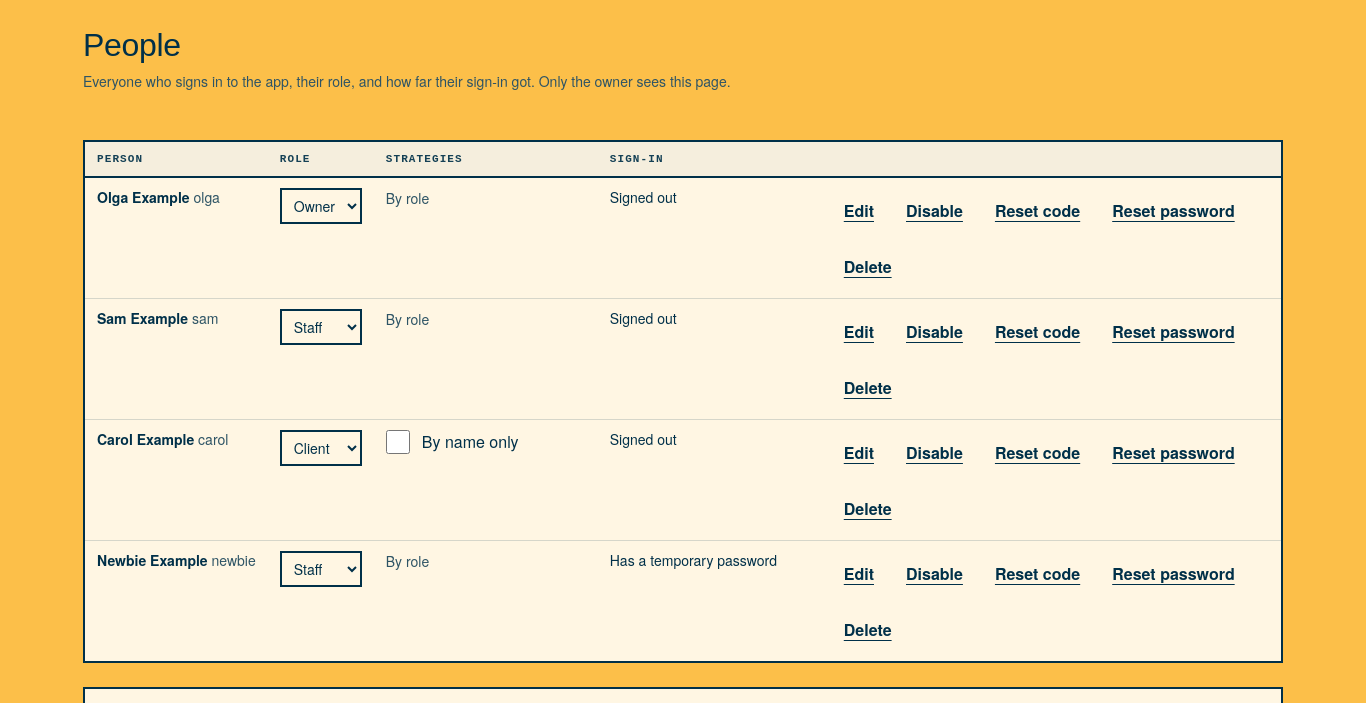
People › edits a person’s name and e-mail, and removes an e-mail left empty
The width and height of the screenshot is (1366, 703).
Click the button with aria-label "Edit carol". click: (859, 452)
box: [834,430,884,474]
(page scrolled)
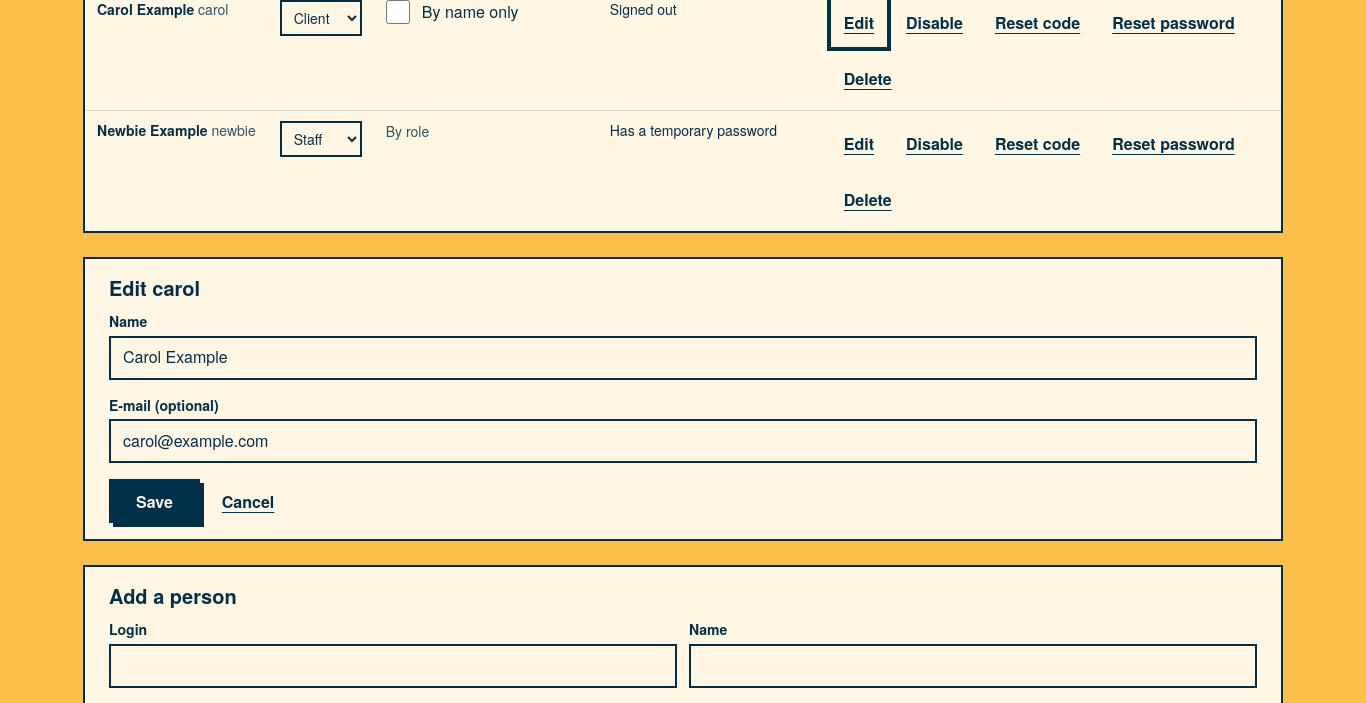
Replace the text in the field labelled "Name" below "Edit carol" with "Carol Smith". click: (683, 358)
box: [109,336,1257,380]
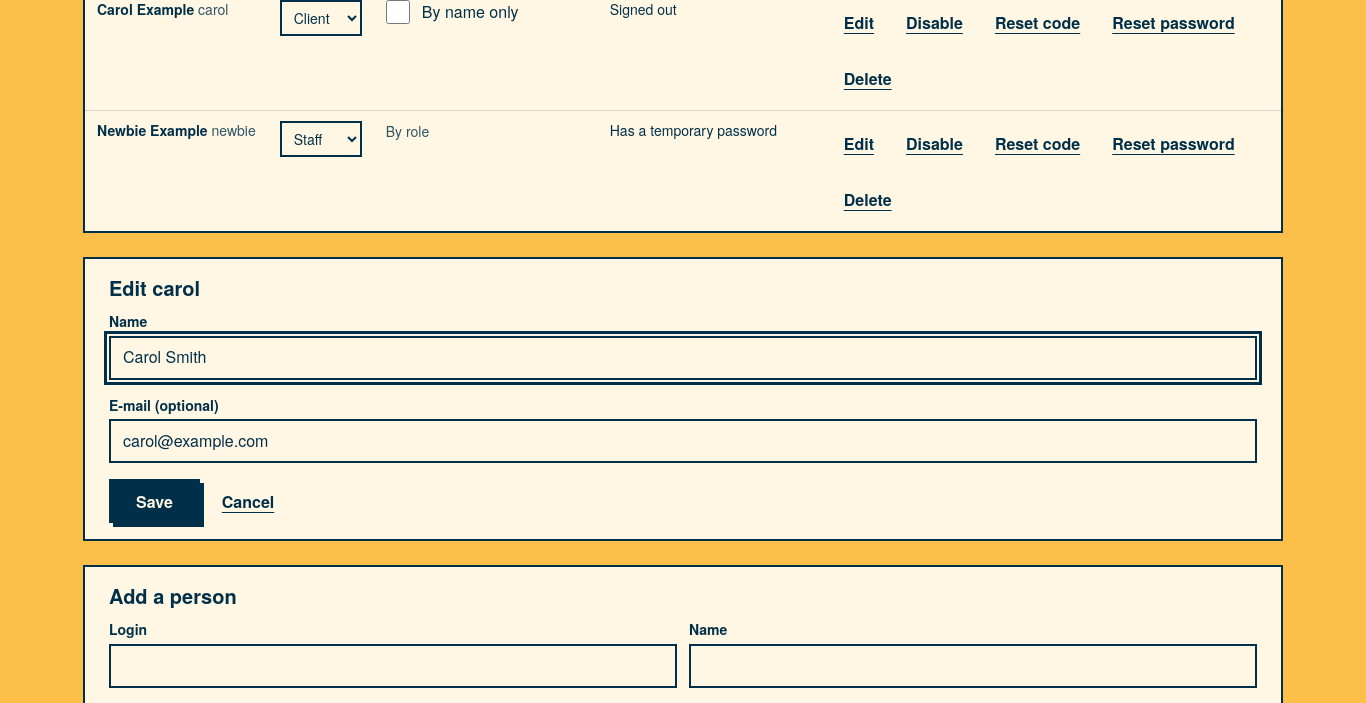
Clear the field labelled "E-mail (optional)" below "Edit carol". click: (683, 441)
box: [109,419,1257,463]
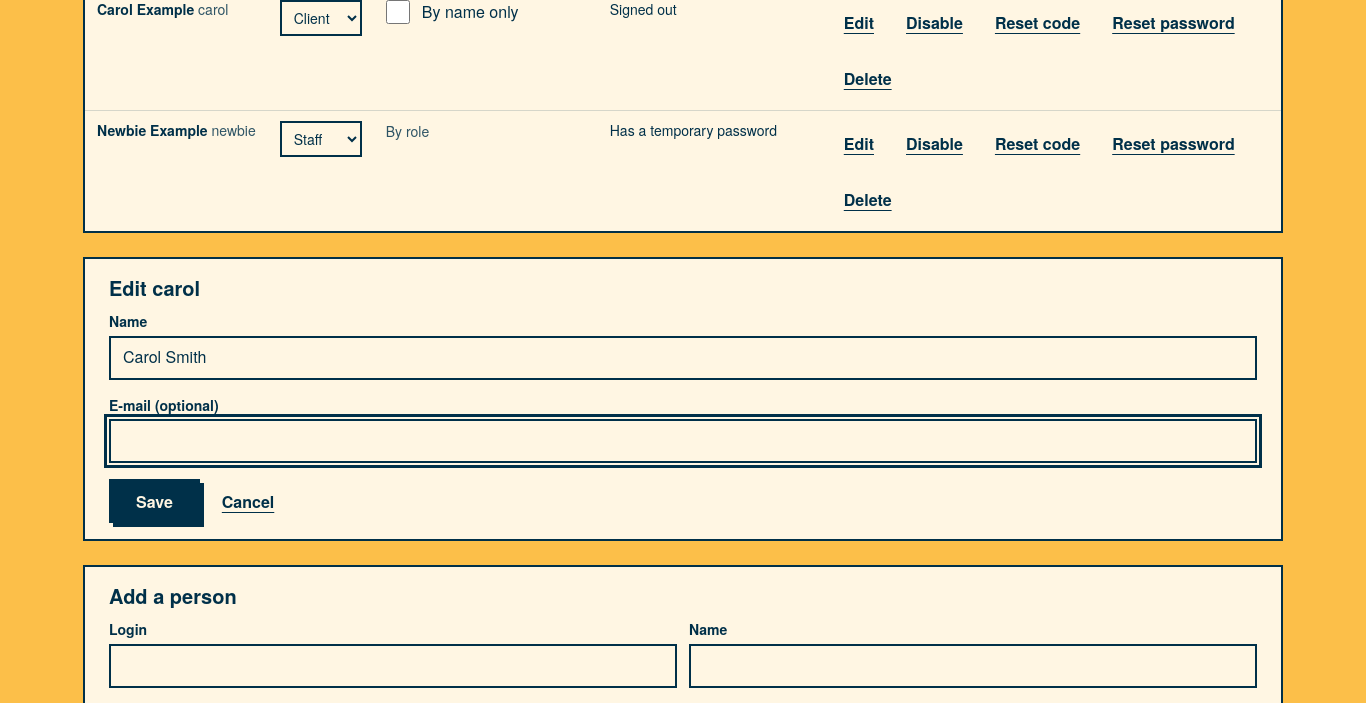
Click the button "Save". click: (154, 501)
box: [109,479,200,523]
(page scrolled)
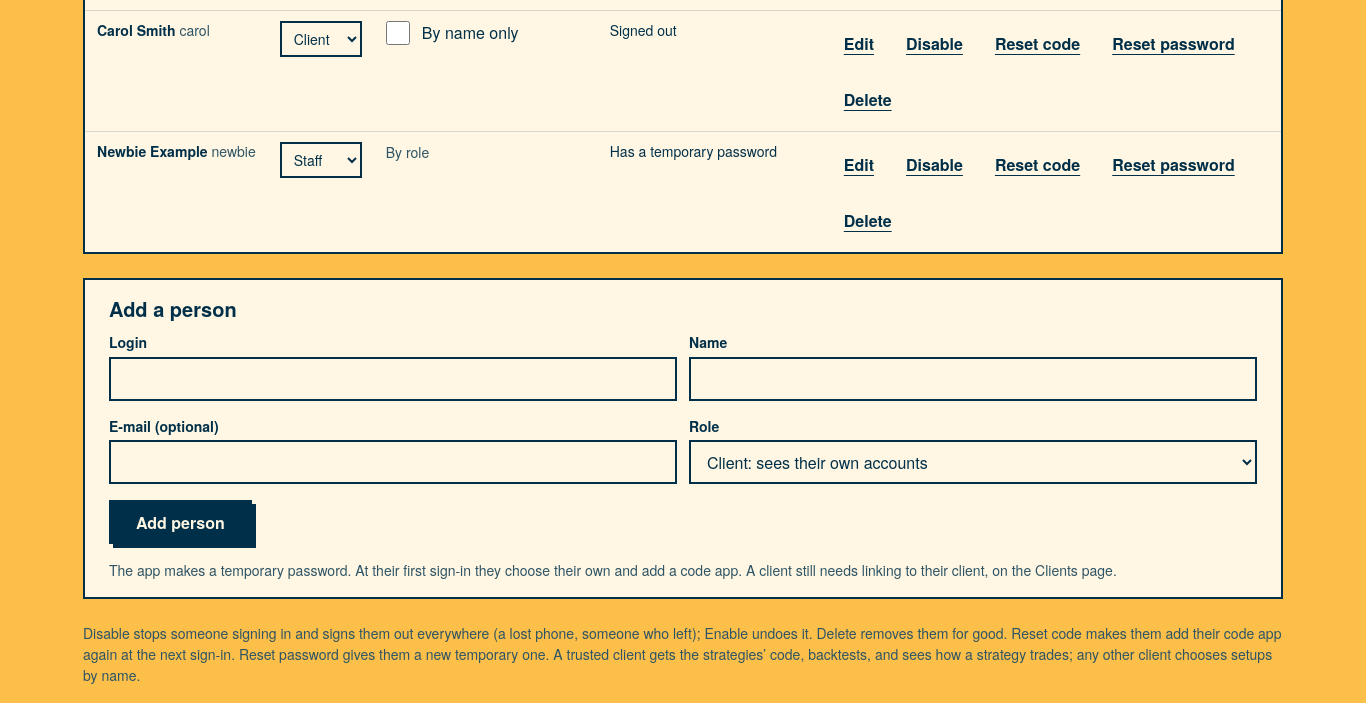
Expected: the heading "Edit carol" is gone
Expected: the text "Carol Smith" is shown, [97,20,176,40]
